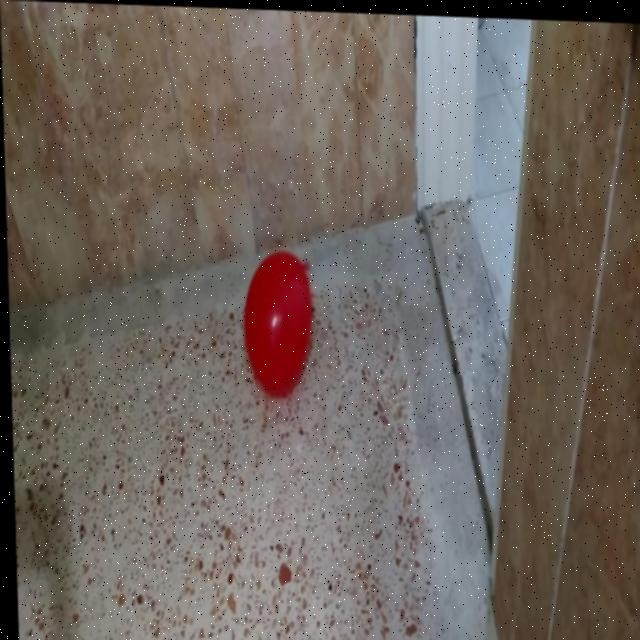balloon: (238, 235, 317, 404)
